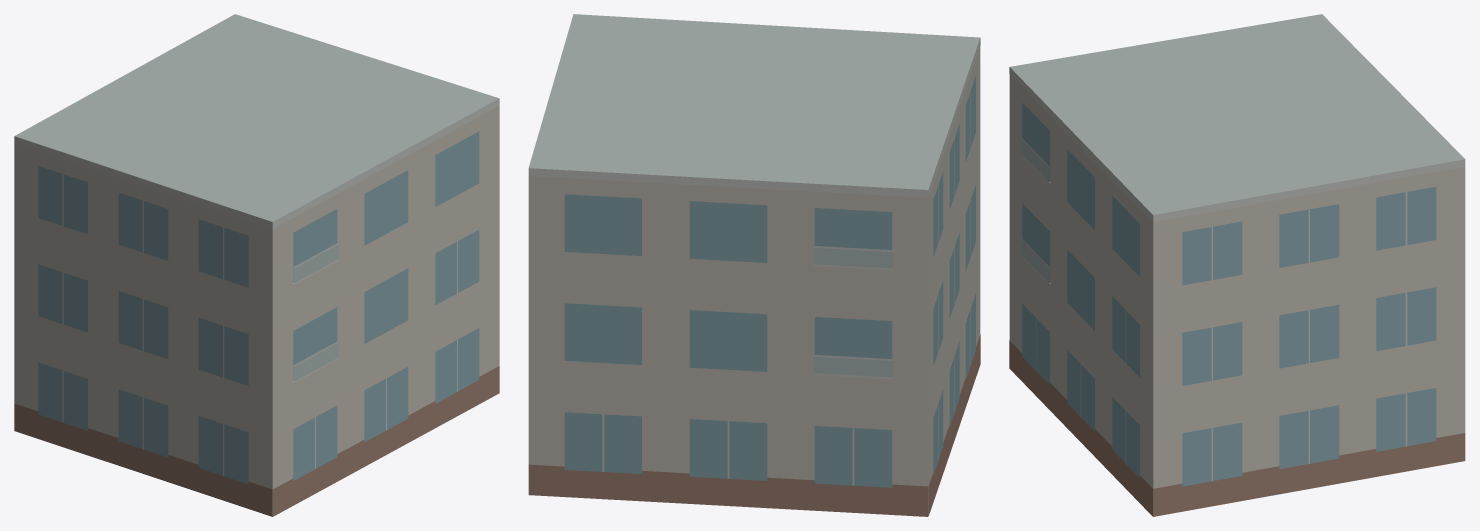
File: survey-upis-33039989.glb
3 renders of one model, left to right at view 1: azimuth 30°, elevation 25°; view 2: azimuth 150°, elevation 25°; view 3: azimuth 270°, elevation 25°, orthographic. The views are drawn at different scales.
Visible parts, largest first — view 1: survey-upis-33039989.tmp; view 2: survey-upis-33039989.tmp; view 3: survey-upis-33039989.tmp.
Part boxes in pixels (x1=…): survey-upis-33039989.tmp: x1=14, y1=14, x2=499, y2=516; survey-upis-33039989.tmp: x1=528, y1=14, x2=980, y2=516; survey-upis-33039989.tmp: x1=1009, y1=14, x2=1465, y2=516.
Size of the model in its own units: 14.59 by 10.2 by 13.97.
